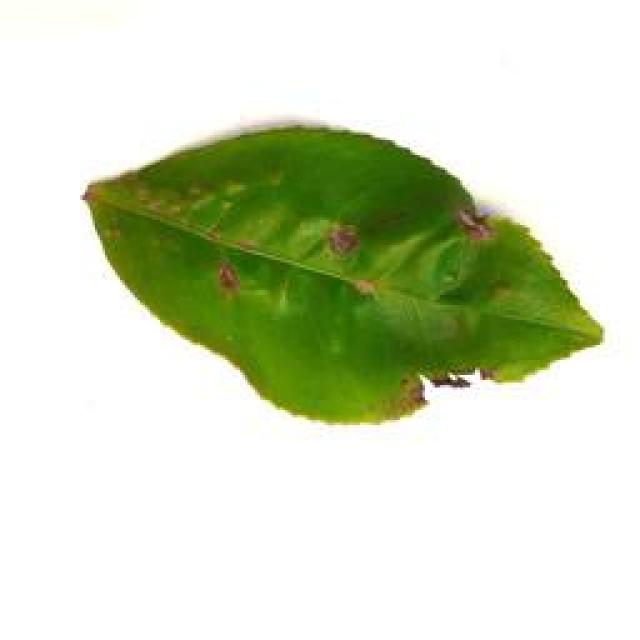Helopeltis: (72, 108, 620, 457)
